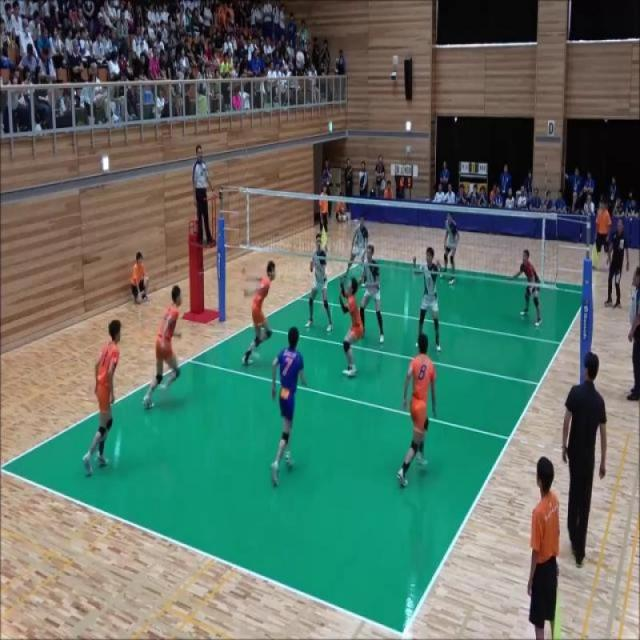volleyball: (294, 48, 306, 71)
